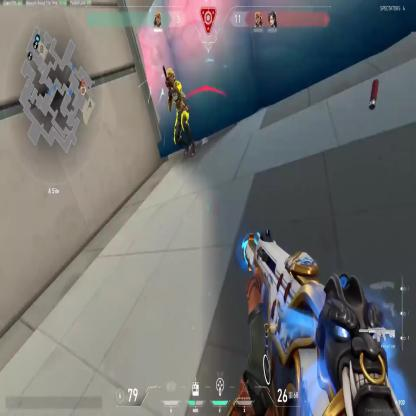enemy: (163, 64, 197, 157)
enemy_head: (166, 68, 176, 87)
